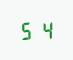five: (19, 20, 35, 40)
four: (36, 20, 52, 39)
